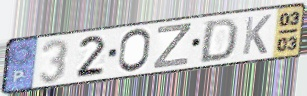2: (75, 34, 109, 79)
3: (38, 36, 72, 86)
D: (197, 16, 241, 64)
K: (240, 13, 273, 57)
O: (116, 27, 153, 74)
Z: (152, 22, 193, 70)
